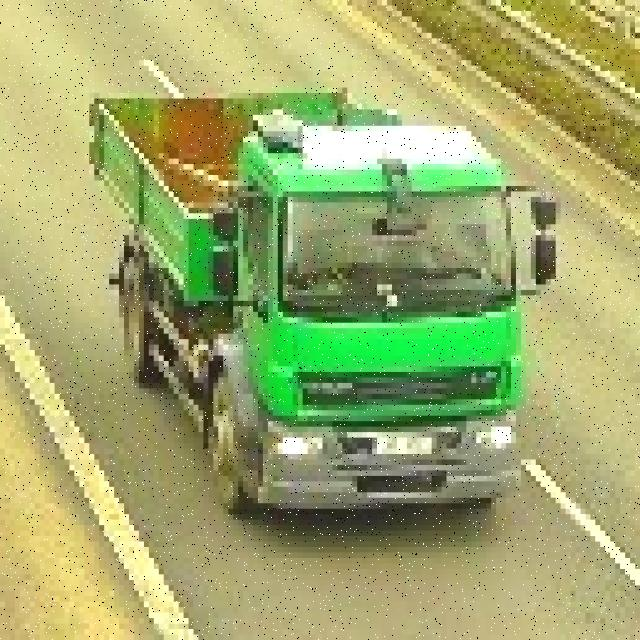truck: (94, 82, 556, 514)
